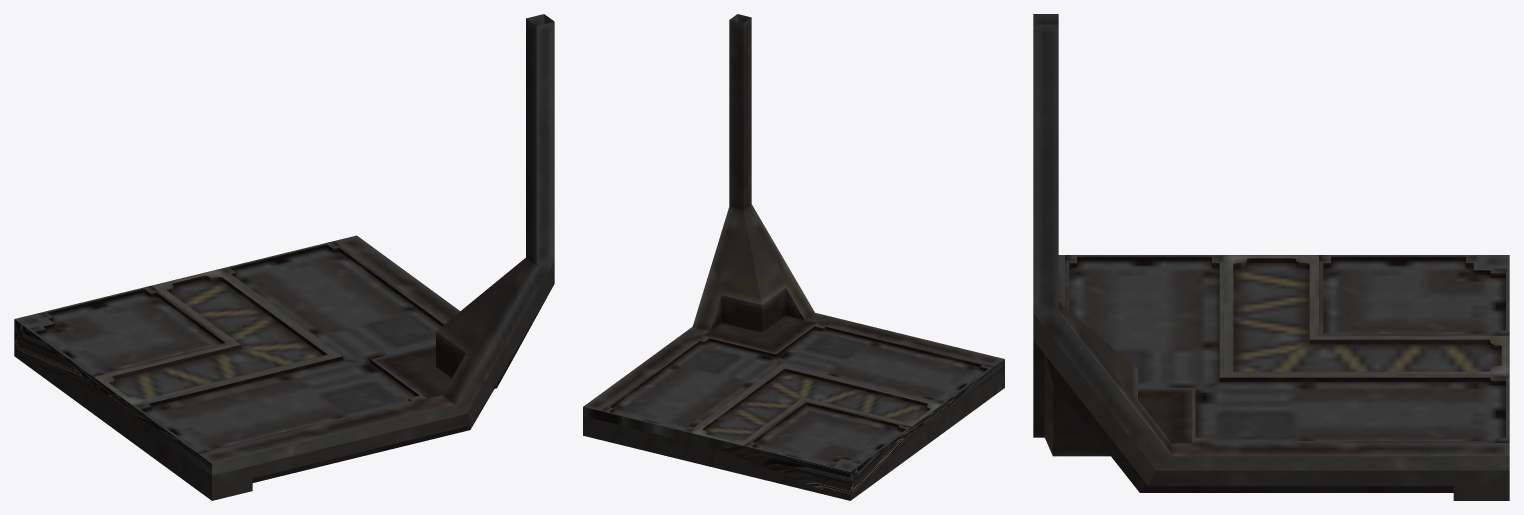
Rendered from Wall_combined_1_corner_out.FBX.
3 renders of one model, left to right at view 1: azimuth 30°, elevation 25°; view 2: azimuth 150°, elevation 25°; view 3: azimuth 270°, elevation 25°, orthographic. The views are drawn at different scales.
Parts seen in each view (by area): view 1: Wall_combinedl_1_corner_out; view 2: Wall_combinedl_1_corner_out; view 3: Wall_combinedl_1_corner_out.
Part boxes in pixels (box(x1,y1,x2,y2)): Wall_combinedl_1_corner_out: box(14, 14, 554, 500); Wall_combinedl_1_corner_out: box(583, 14, 1004, 500); Wall_combinedl_1_corner_out: box(1033, 14, 1509, 500).
Size of the model in its own units: 300 by 331 by 300.
